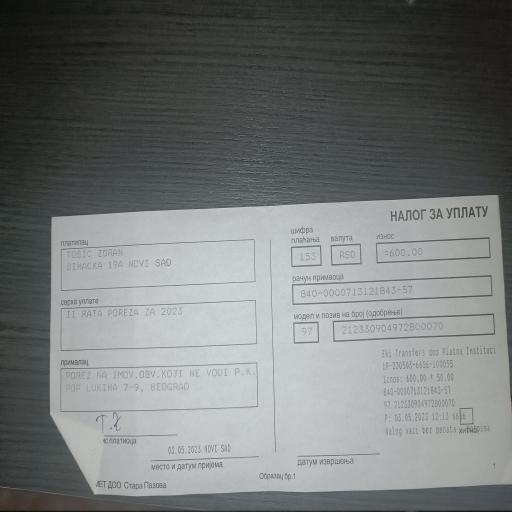svrha_uplate: (59, 299, 260, 344)
uplatnica: (285, 224, 500, 346)
